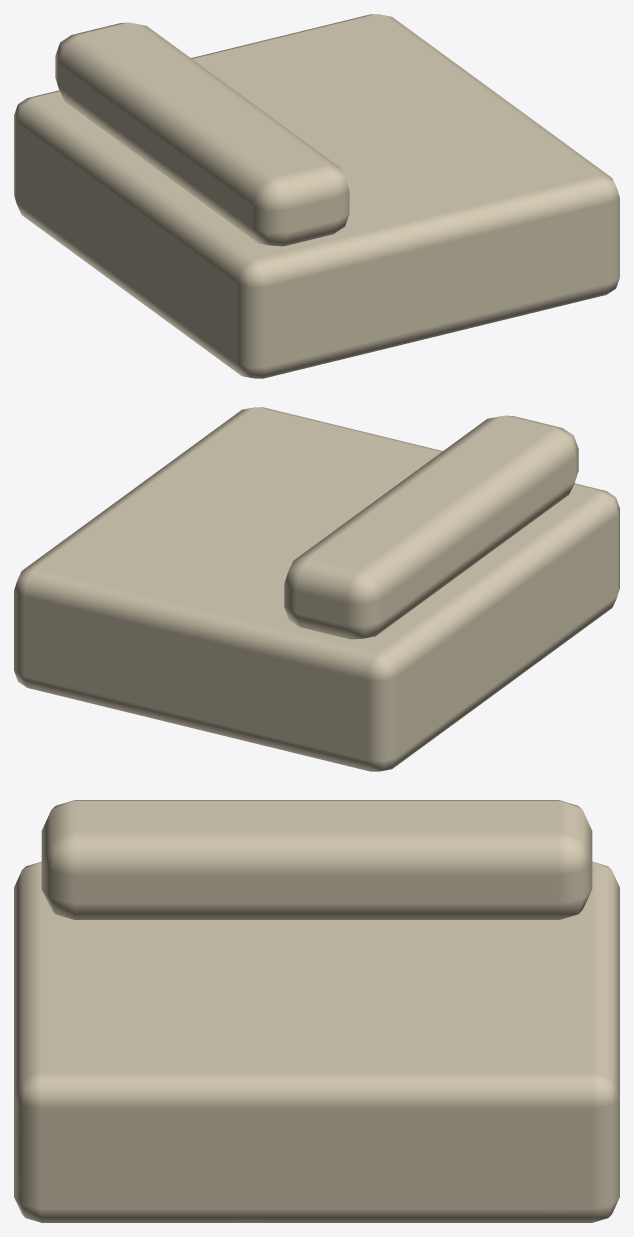
The model's file is desk_phone.glb.
3 views of the same model, one above another, from view 1: azimuth 30°, elevation 25°; view 2: azimuth 150°, elevation 25°; view 3: azimuth 270°, elevation 25° (orthographic). The views are drawn at different scales.
Parts seen in each view (by area): view 1: desk_phone; view 2: desk_phone; view 3: desk_phone.
Part boxes in pixels (x1,y1,x2,y2): desk_phone: [14, 14, 619, 378]; desk_phone: [14, 407, 619, 771]; desk_phone: [14, 800, 619, 1222].
Size of the model in its own units: 0.2 by 0.0925 by 0.22.
